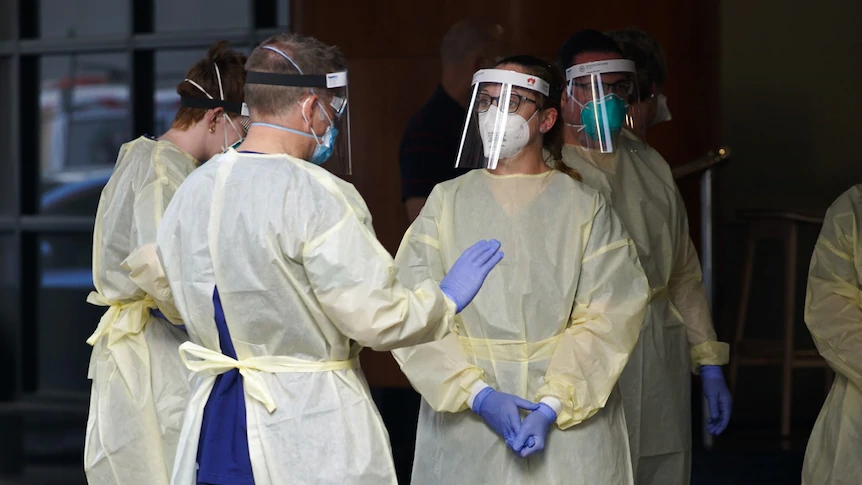Coverall: (385, 164, 647, 485), (178, 150, 396, 485), (83, 133, 231, 485)
Face_Shield: (466, 69, 552, 174), (561, 55, 641, 164)
Gloves: (430, 237, 504, 320), (458, 376, 521, 451), (513, 399, 569, 462), (697, 352, 737, 439)
with_mask: (478, 87, 533, 161), (572, 71, 625, 144)
